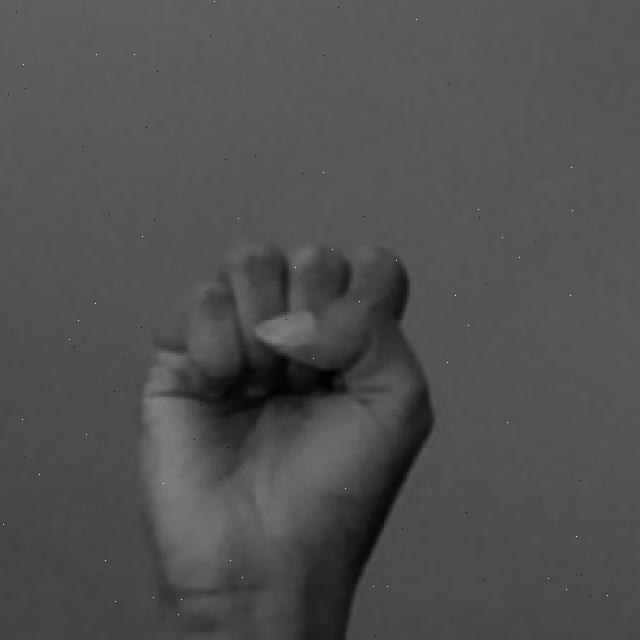S: (128, 233, 438, 640)
